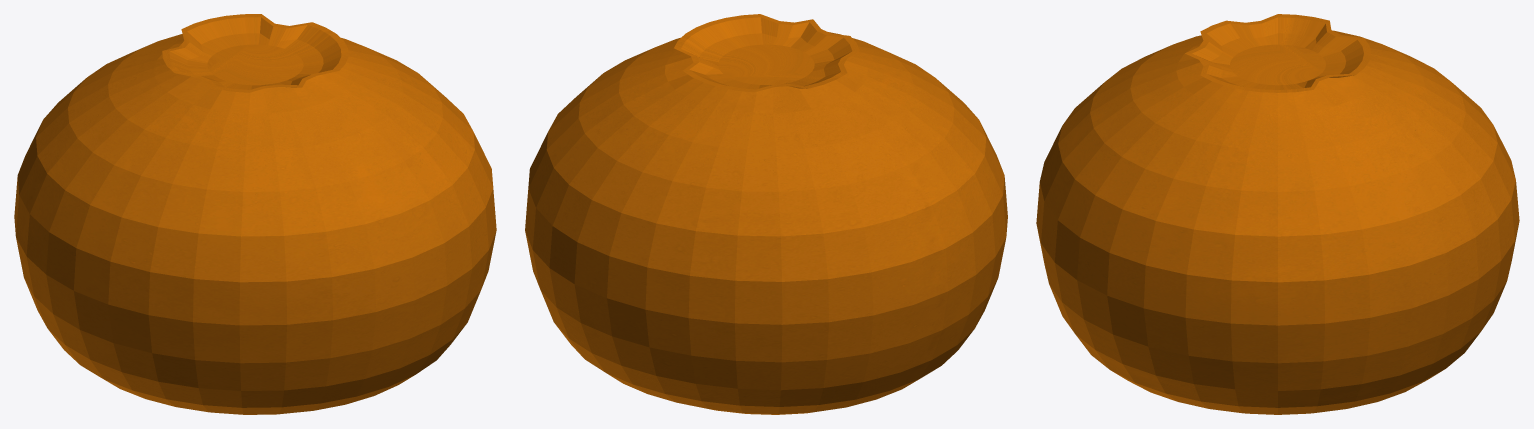
The model's file is ARANDANO.fbx.
The picture shows the model from 3 angles, left to right: view 1: azimuth 30°, elevation 25°; view 2: azimuth 150°, elevation 25°; view 3: azimuth 270°, elevation 25°; orthographic projection.
Parts seen in each view (by area): view 1: Sphere.001; view 2: Sphere.001; view 3: Sphere.001.
Part boxes in pixels (bbox=[...]): Sphere.001: bbox=[14, 14, 496, 414]; Sphere.001: bbox=[525, 14, 1007, 414]; Sphere.001: bbox=[1036, 14, 1519, 414].
Size of the model in its own units: 114 by 83.82 by 114.
